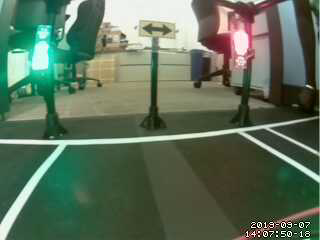Left_Right_sign: (140, 18, 180, 38)
Traffic_light_green: (34, 26, 49, 68)
Traffic_light_red: (230, 24, 251, 62)
